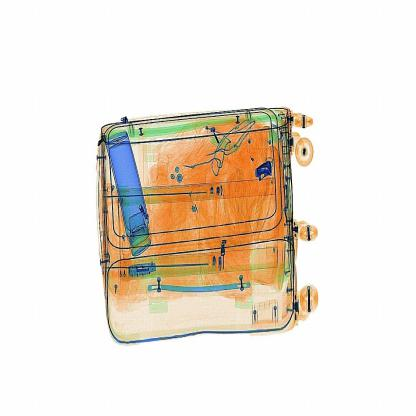knife: (250, 157, 275, 183)
